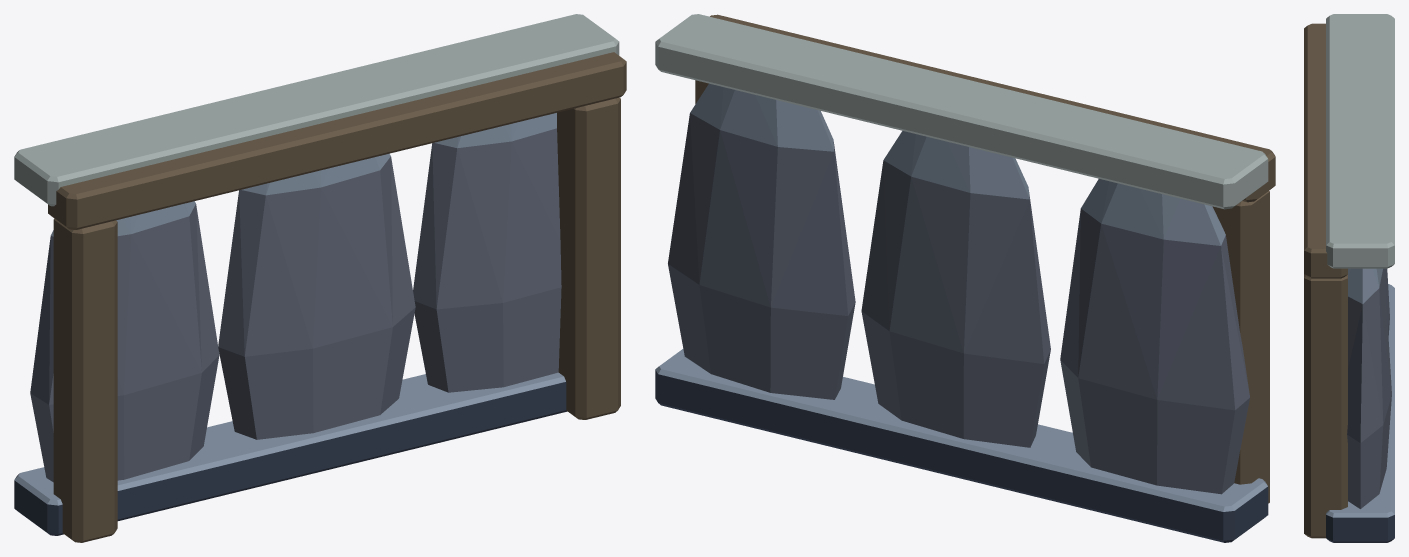
File: platform-edge.glb
3 renders of one model, left to right at view 1: azimuth 30°, elevation 25°; view 2: azimuth 150°, elevation 25°; view 3: azimuth 270°, elevation 25°, orthographic. The views are drawn at different scales.
Visible parts, largest first — view 1: platform-edge__body; view 2: platform-edge__body; view 3: platform-edge__body.
Part boxes in pixels (x1,y1,x2,y2): platform-edge__body: (14,14,626,542); platform-edge__body: (655,14,1275,542); platform-edge__body: (1304,14,1394,542).
Bounding box in the file's own units: 2.01 × 1.2 × 0.33.
